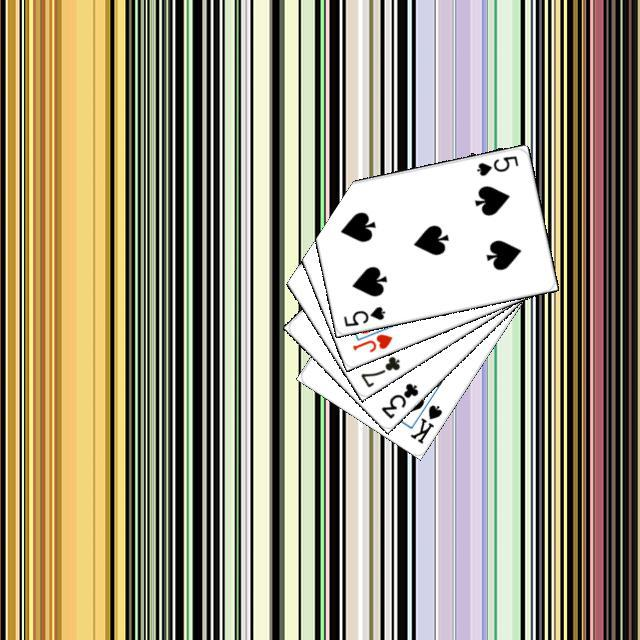3c: (376, 378, 420, 421)
5s: (472, 151, 520, 178), (338, 302, 387, 328)
7c: (356, 351, 402, 389)
Jh: (347, 329, 394, 354)
Ks: (405, 399, 444, 445)
